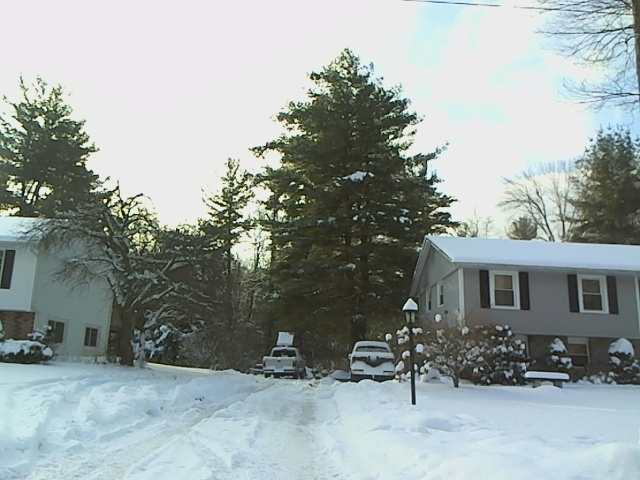Unploughed: (123, 379, 329, 477)
